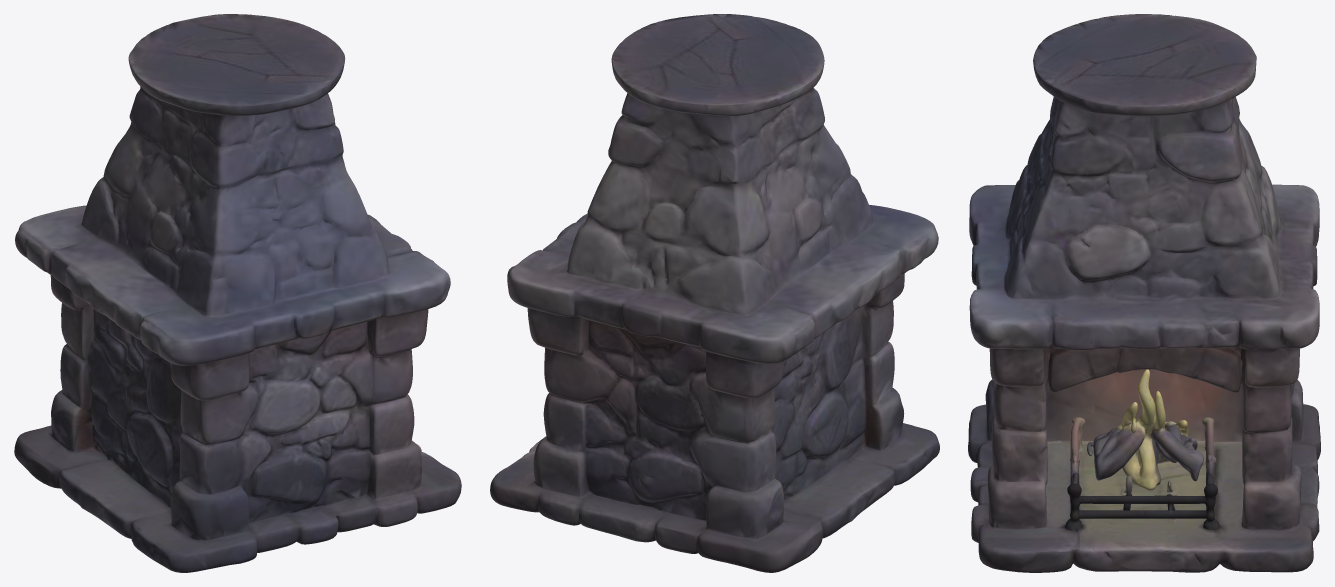
The picture shows the model from 3 angles, left to right: view 1: azimuth 30°, elevation 25°; view 2: azimuth 150°, elevation 25°; view 3: azimuth 270°, elevation 25°; orthographic projection. The views are drawn at different scales.
Parts seen in each view (by area): view 1: tripo_node_bf211251-cd24-490e-b29b-3a438fb4fb7a; view 2: tripo_node_bf211251-cd24-490e-b29b-3a438fb4fb7a; view 3: tripo_node_bf211251-cd24-490e-b29b-3a438fb4fb7a.
Part boxes in pixels (x1,y1,x2,y2): tripo_node_bf211251-cd24-490e-b29b-3a438fb4fb7a: (14,14,461,572); tripo_node_bf211251-cd24-490e-b29b-3a438fb4fb7a: (490,14,939,572); tripo_node_bf211251-cd24-490e-b29b-3a438fb4fb7a: (968,14,1320,572).
Bounding box in the file's own units: 0.7453 × 0.9998 × 0.7294.
Materials: 1 (1 with a texture image).
